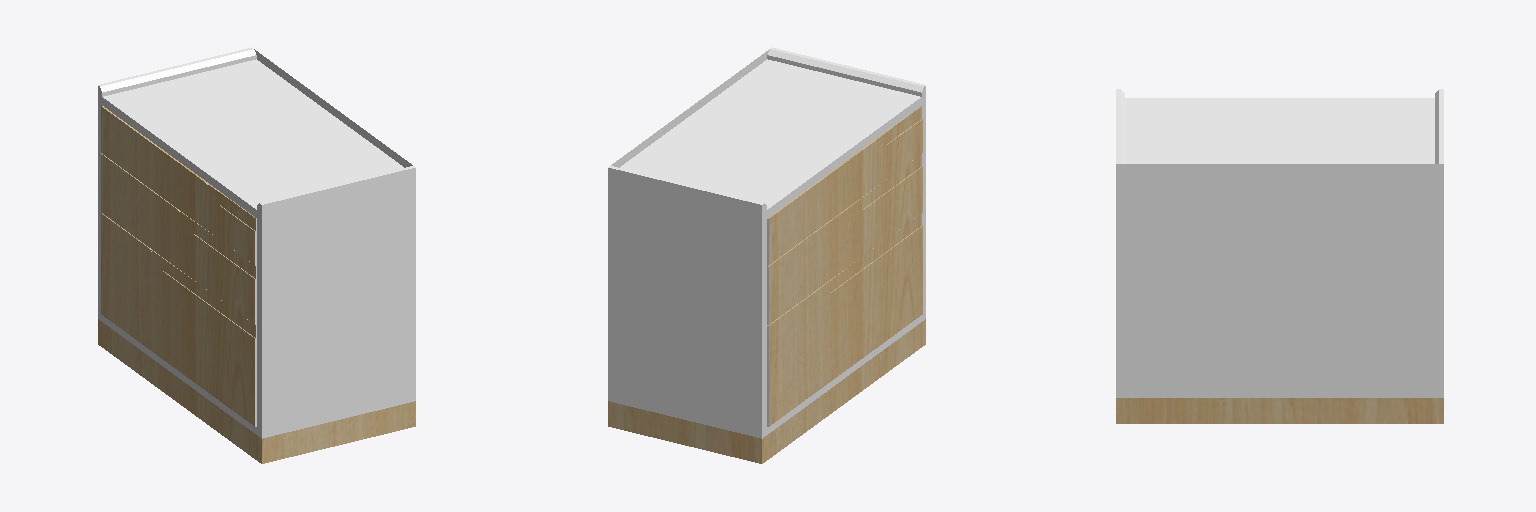
3 renders of one model, left to right at view 1: azimuth 30°, elevation 25°; view 2: azimuth 150°, elevation 25°; view 3: azimuth 270°, elevation 25°, orthographic.
Visible parts, largest first — view 1: Mesh1 Group_8_1 Model; view 2: Mesh1 Group_8_1 Model; view 3: Mesh1 Group_8_1 Model.
Part boxes in pixels (left/top/right/bottom): Mesh1 Group_8_1 Model: left=98, top=47, right=415, bottom=463; Mesh1 Group_8_1 Model: left=608, top=47, right=925, bottom=463; Mesh1 Group_8_1 Model: left=1116, top=89, right=1443, bottom=423.
Bounding box in the file's own units: 0.4877 × 0.7747 × 0.889.
Materials: 2 (1 with a texture image).